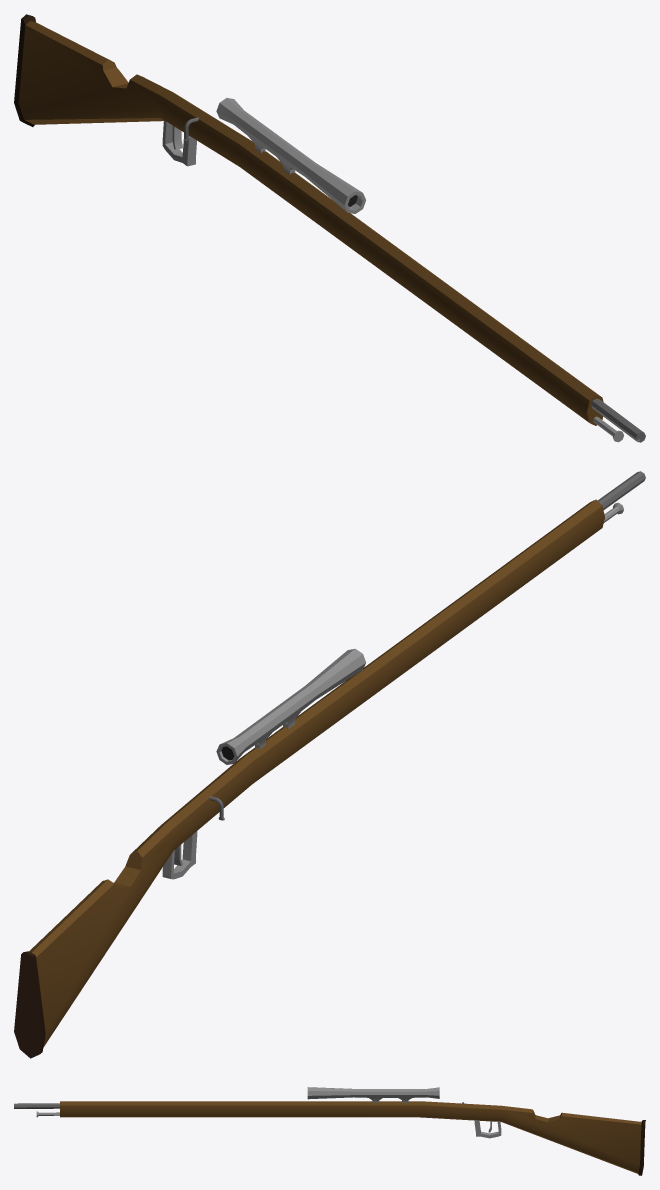
The model's file is musket2.fbx.
3 views of the same model, one above another, from view 1: azimuth 30°, elevation 25°; view 2: azimuth 150°, elevation 25°; view 3: azimuth 270°, elevation 25° (orthographic). The views are drawn at different scales.
Parts seen in each view (by area): view 1: Cylinder; view 2: Cylinder; view 3: Cylinder.
Part boxes in pixels (x1=…): Cylinder: x1=14, y1=14, x2=645, y2=442; Cylinder: x1=14, y1=471, x2=645, y2=1058; Cylinder: x1=14, y1=1087, x2=645, y2=1175.
Bounding box in the file's own units: 15.77 × 73.99 × 479.
